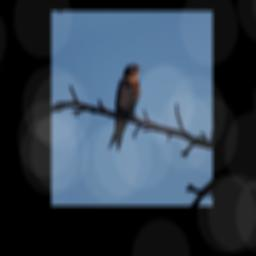Swallow: (98, 61, 152, 154)
